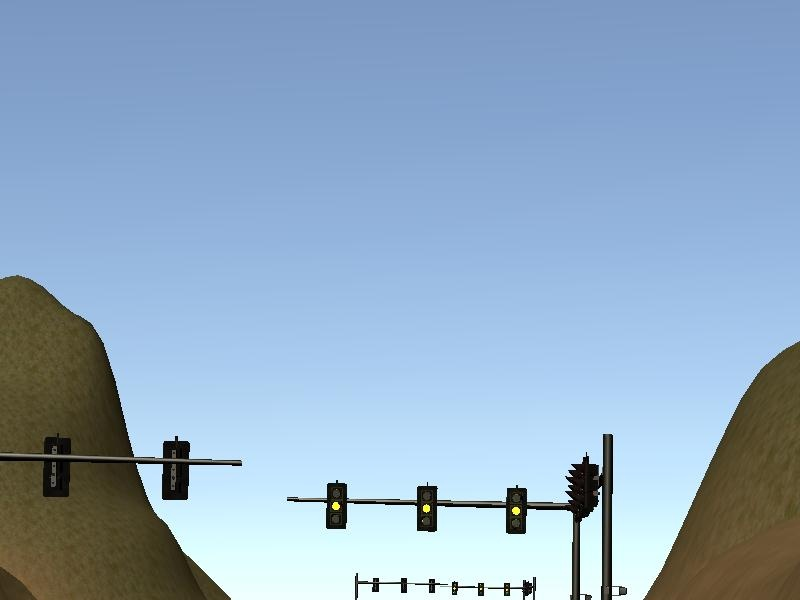YELLOW: (416, 484, 436, 533), (505, 487, 525, 536), (326, 484, 346, 528)
